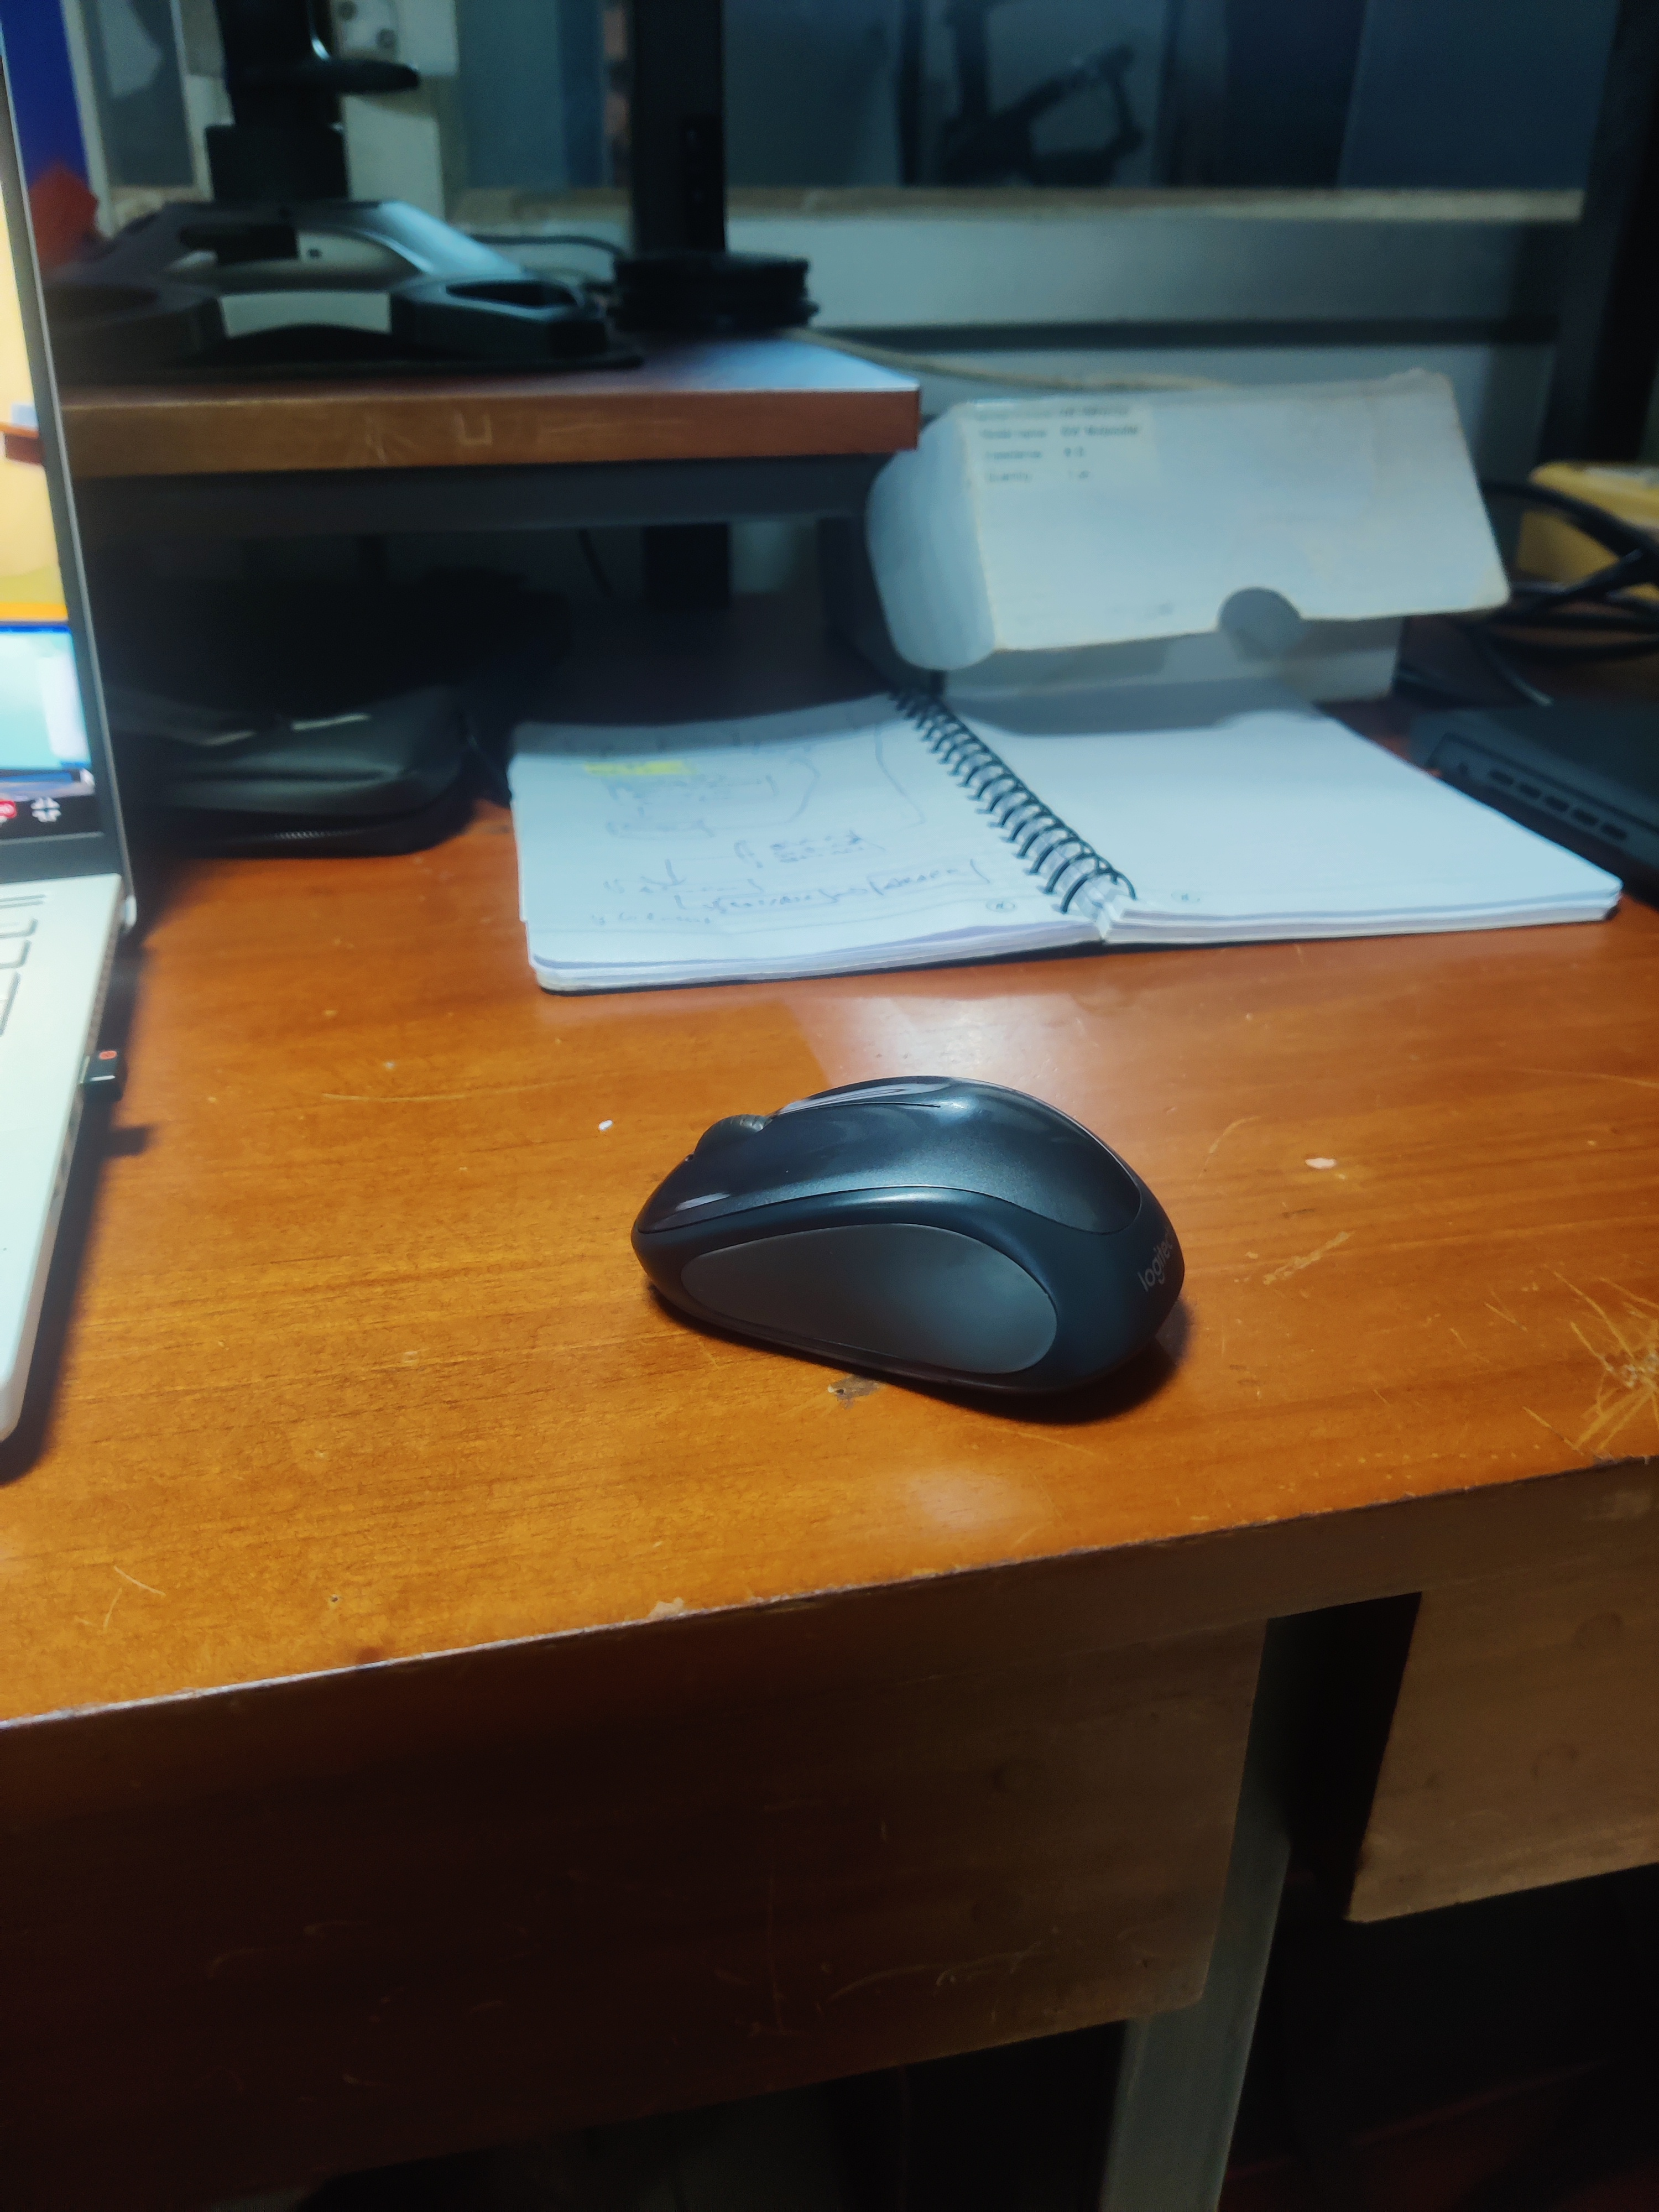logitechMouse: (587, 1045, 1215, 1421)
